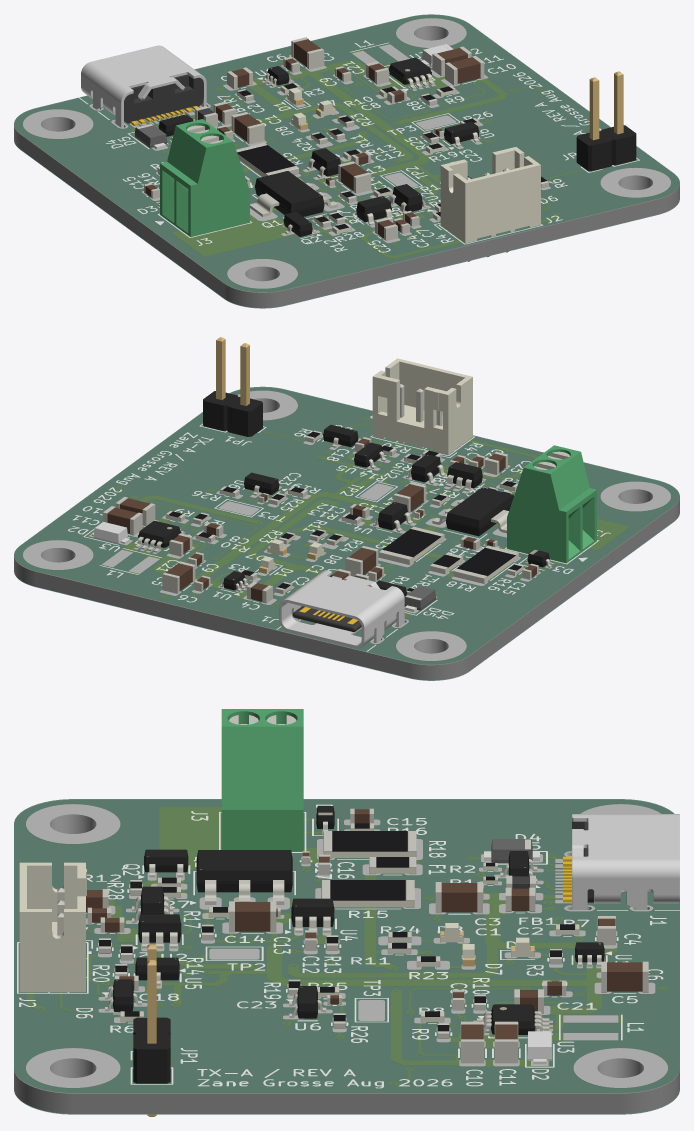
3 views of the same model, one above another, from view 1: azimuth 30°, elevation 25°; view 2: azimuth 150°, elevation 25°; view 3: azimuth 270°, elevation 25° (orthographic). The views are drawn at different scales.
Visible parts, largest first — view 1: tx-a_soldermask, tx-a_PCB, tx-a_pad, J3, J2, J1, tx-a_copper, tx-a_silkscreen, JP1, Q1, R15, U3 (+12 smaller); view 2: tx-a_soldermask, tx-a_PCB, tx-a_pad, J3, J2, J1, tx-a_silkscreen, tx-a_copper, JP1, Q1, R15, R18 (+14 smaller); view 3: tx-a_soldermask, tx-a_PCB, tx-a_pad, tx-a_copper, J3, tx-a_silkscreen, J1, J2, Q1, JP1, R15, R18 (+19 smaller).
Part boxes in pixels (x1,y1,x2,y2): tx-a_soldermask: (14, 14, 679, 308); tx-a_PCB: (14, 15, 679, 307); tx-a_pad: (23, 18, 670, 288); J3: (160, 119, 249, 236); J2: (440, 147, 540, 261); J1: (81, 45, 206, 127); tx-a_copper: (130, 50, 582, 257); tx-a_silkscreen: (78, 40, 639, 252); JP1: (576, 71, 636, 171); Q1: (250, 171, 337, 216); R15: (236, 143, 298, 176); U3: (387, 57, 434, 89); tx-a_soldermask: (14, 386, 679, 680); tx-a_PCB: (14, 388, 679, 680); tx-a_pad: (23, 390, 670, 660); J3: (507, 445, 596, 562); J2: (372, 358, 472, 454); J1: (279, 570, 404, 648); tx-a_silkscreen: (68, 415, 610, 651); tx-a_copper: (88, 418, 628, 616); JP1: (203, 337, 262, 436); Q1: (432, 487, 513, 536); R15: (379, 526, 444, 564); R18: (453, 545, 518, 583); tx-a_soldermask: (14, 799, 679, 1114); tx-a_PCB: (14, 800, 679, 1113); tx-a_pad: (26, 804, 667, 1087); tx-a_copper: (27, 807, 667, 1085); J3: (221, 709, 303, 851); tx-a_silkscreen: (17, 804, 679, 1088); J1: (563, 814, 679, 909); J2: (19, 862, 86, 992); Q1: (196, 850, 292, 904); JP1: (133, 944, 170, 1116); R15: (321, 880, 414, 907); R18: (323, 831, 416, 858).
Bounding box in the file's own units: 0.047 × 0.012 × 0.045.
